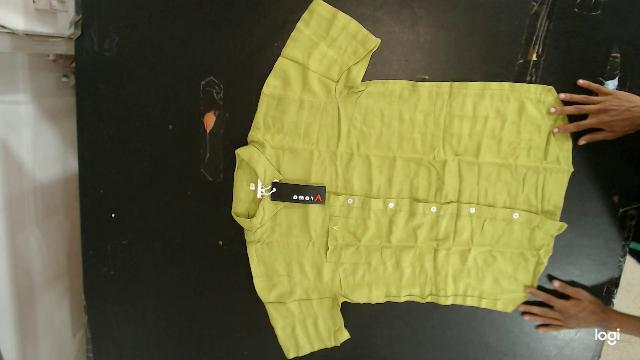new-garment: (232, 0, 572, 358)
